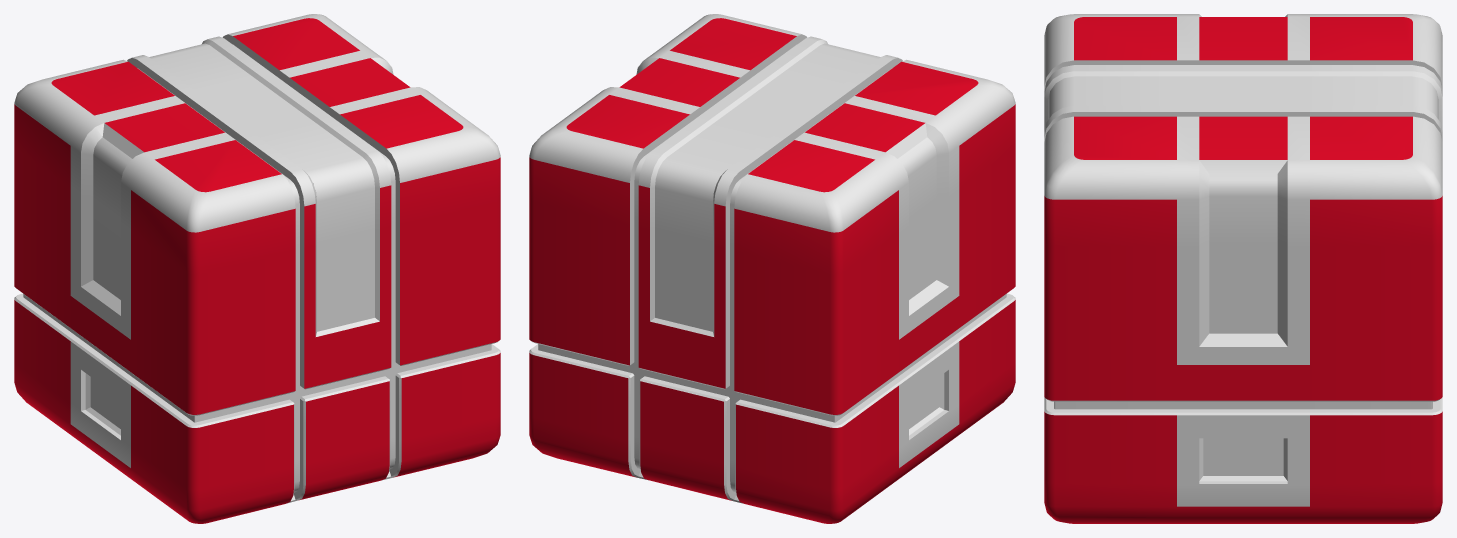
Rendered from GameCube.fbx.
3 views of the same model, side by side, from view 1: azimuth 30°, elevation 25°; view 2: azimuth 150°, elevation 25°; view 3: azimuth 270°, elevation 25° (orthographic). The views are drawn at different scales.
Visible parts, largest first — view 1: GameCube; view 2: GameCube; view 3: GameCube.
Part boxes in pixels (<box>): GameCube: <box>14,14,500,523</box>; GameCube: <box>529,14,1015,523</box>; GameCube: <box>1044,14,1442,523</box>.
Size of the model in its own units: 100 by 100 by 100.
